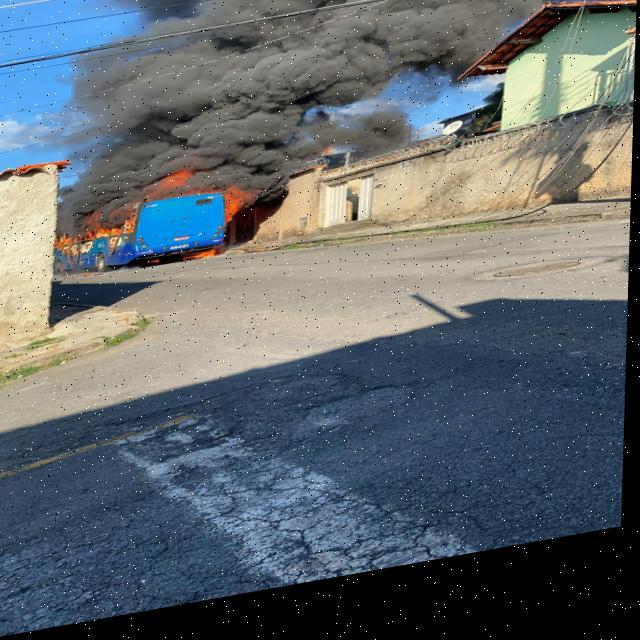Fire: (216, 192, 248, 233), (88, 224, 138, 244), (56, 235, 78, 256), (184, 256, 219, 268)
